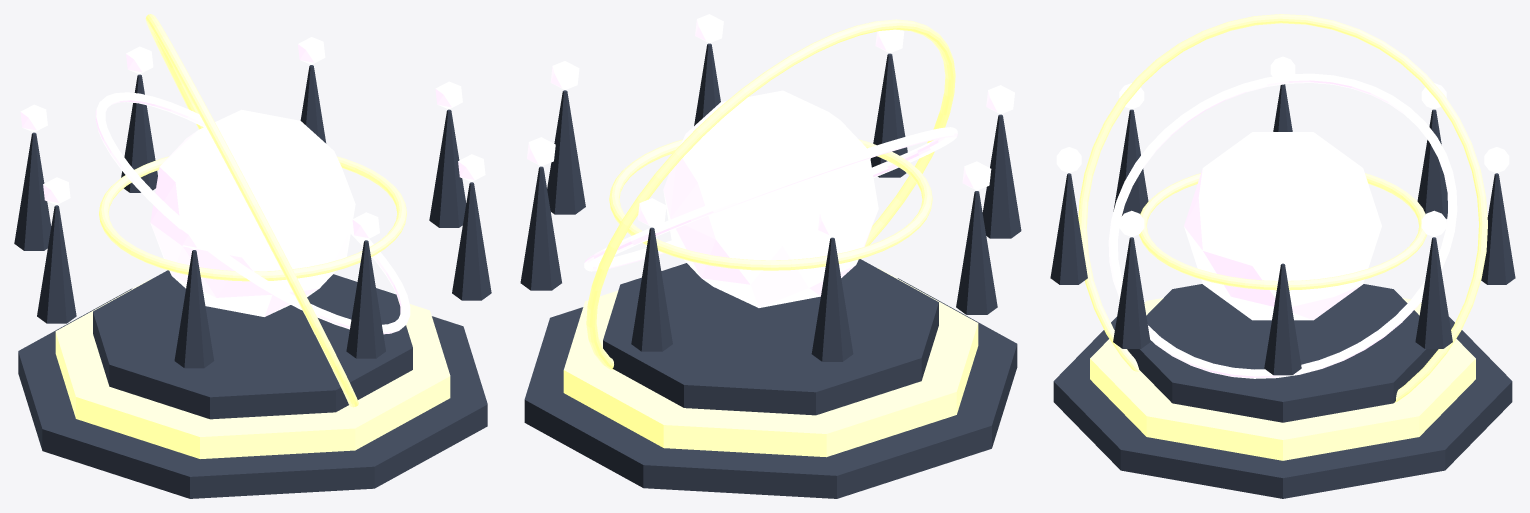
File: gpu-blender-v13.glb
The picture shows the model from 3 angles, left to right: view 1: azimuth 30°, elevation 25°; view 2: azimuth 150°, elevation 25°; view 3: azimuth 270°, elevation 25°; orthographic projection. The views are drawn at different scales.
Visible parts, largest first — view 1: Cylinder.002, SovereignCore_mcp-lens, Cylinder, Cylinder.001, Torus.001, Torus.002, Torus, Cone.005, Cone.007, Cone.004, Cone.006, Cone (+11 smaller); view 2: Cylinder.002, SovereignCore_mcp-lens, Cylinder, Cylinder.001, Torus.002, Torus.001, Torus, Cone.001, Cone.003, Cone.002, Cone.004, Cone (+11 smaller); view 3: SovereignCore_mcp-lens, Cylinder.002, Cylinder, Cylinder.001, Torus.002, Torus.001, Torus, Cone, Cone.001, Cone.007, Cone.006, Cone.002 (+8 smaller).
Boxes of the visible parts, <box> form: Cylinder.002: <box>93,270,412,419</box>; SovereignCore_mcp-lens: <box>150,109,355,316</box>; Cylinder: <box>18,288,487,498</box>; Cylinder.001: <box>55,278,450,458</box>; Torus.001: <box>95,92,410,334</box>; Torus.002: <box>145,14,358,407</box>; Torus: <box>99,156,406,281</box>; Cone.005: <box>174,250,214,368</box>; Cone.007: <box>452,182,491,300</box>; Cone.004: <box>37,205,76,323</box>; Cone.006: <box>346,240,385,358</box>; Cone: <box>429,109,466,227</box>; Cylinder.002: <box>603,259,938,415</box>; SovereignCore_mcp-lens: <box>663,90,878,307</box>; Cylinder: <box>524,278,1017,498</box>; Cylinder.001: <box>563,268,978,457</box>; Torus.002: <box>586,19,955,369</box>; Torus.001: <box>584,127,957,271</box>; Torus: <box>609,139,932,270</box>; Cone.001: <box>520,166,561,290</box>; Cone.003: <box>811,237,853,361</box>; Cone.002: <box>631,227,672,351</box>; Cone.004: <box>956,191,997,314</box>; Cone: <box>547,90,585,214</box>; SovereignCore_mcp-lens: <box>1184,132,1381,320</box>; Cylinder.002: <box>1127,284,1438,422</box>; Cylinder: <box>1053,317,1512,498</box>; Cylinder.001: <box>1090,298,1475,460</box>; Torus.002: <box>1078,14,1487,402</box>; Torus.001: <box>1108,73,1457,378</box>; Torus: <box>1139,173,1426,290</box>; Cone: <box>1264,263,1301,375</box>; Cone.001: <box>1415,237,1452,348</box>; Cone.007: <box>1113,237,1150,348</box>; Cone.006: <box>1050,173,1087,284</box>; Cone.002: <box>1481,173,1515,284</box>.
Size of the model in its own units: 4.41 by 3.72 by 4.46.
